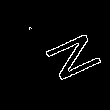N_NE: (36, 24, 107, 83)
